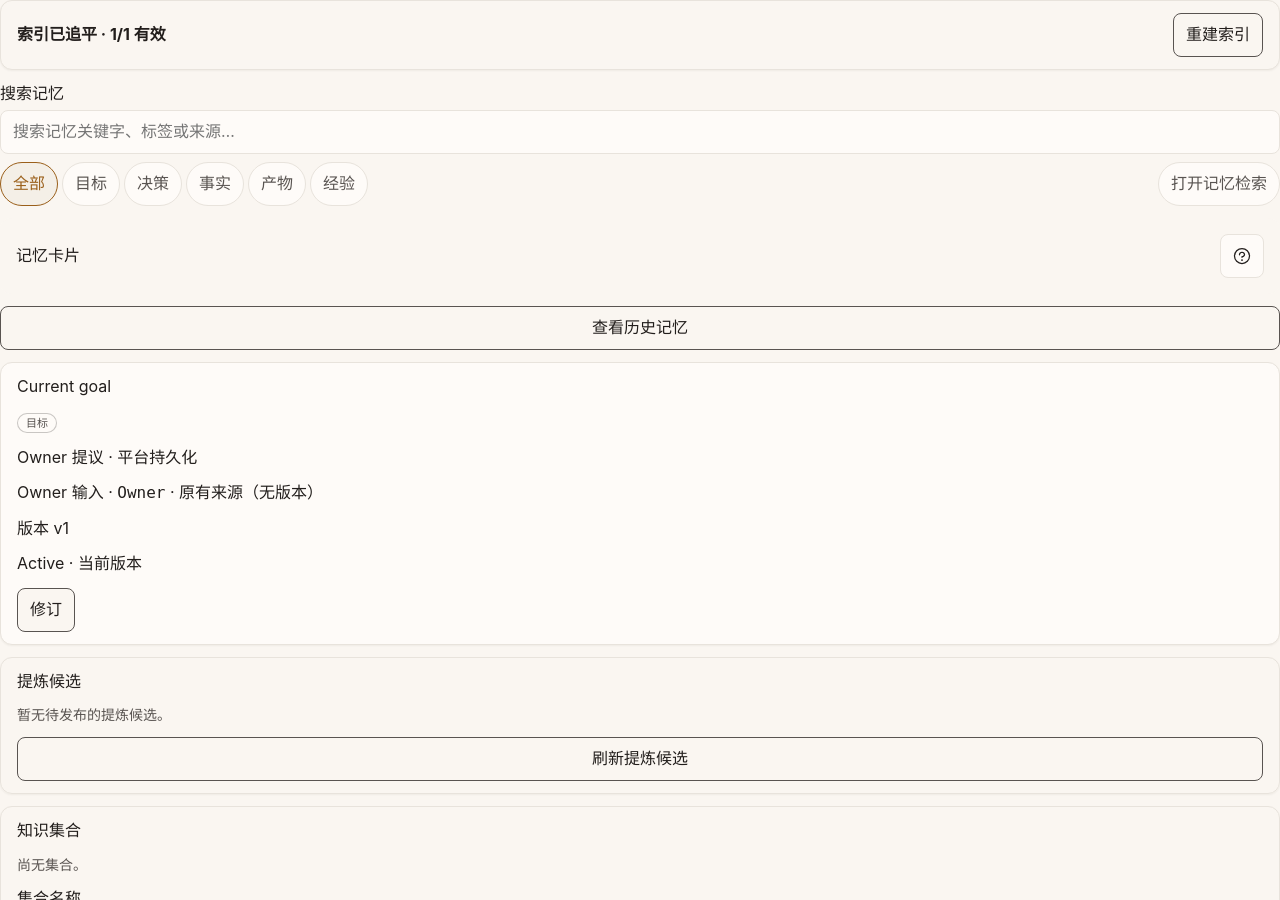
Shared Memory panel › opens the card revise action prefilled and posts a supersede revision
Expected: the heading "Current goal" is shown, [17,376,111,396]
Click the button with aria-label "修订记忆 Current goal" at point(46, 610), box [17,588,75,632]
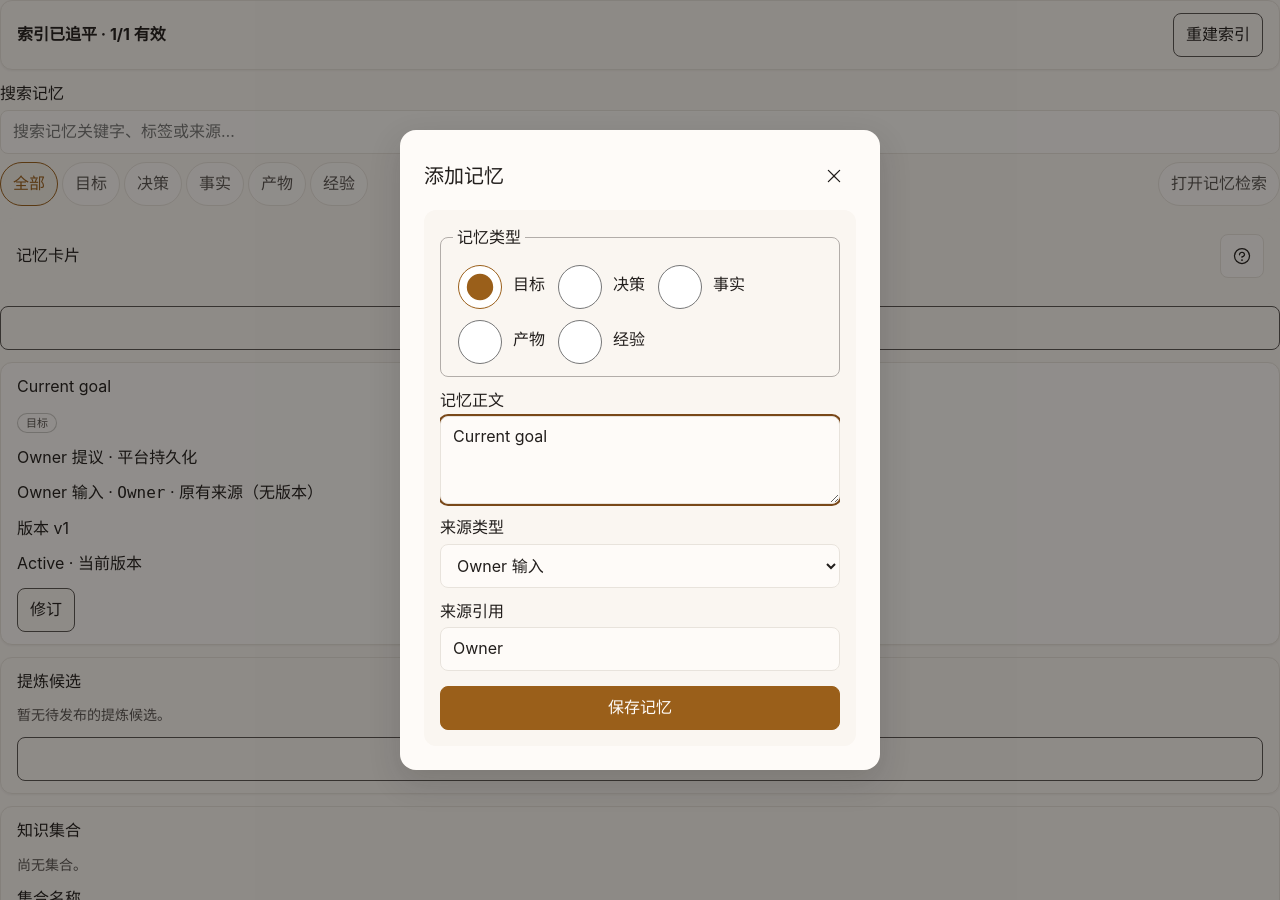
Now the text box labelled "记忆正文" holds "Current goal", box [440,416,840,504]
Now the field labelled "来源引用" holds "Owner", box [440,627,840,671]
Click the button "保存记忆" at point(640, 708), box [440,686,840,730]
(page scrolled)
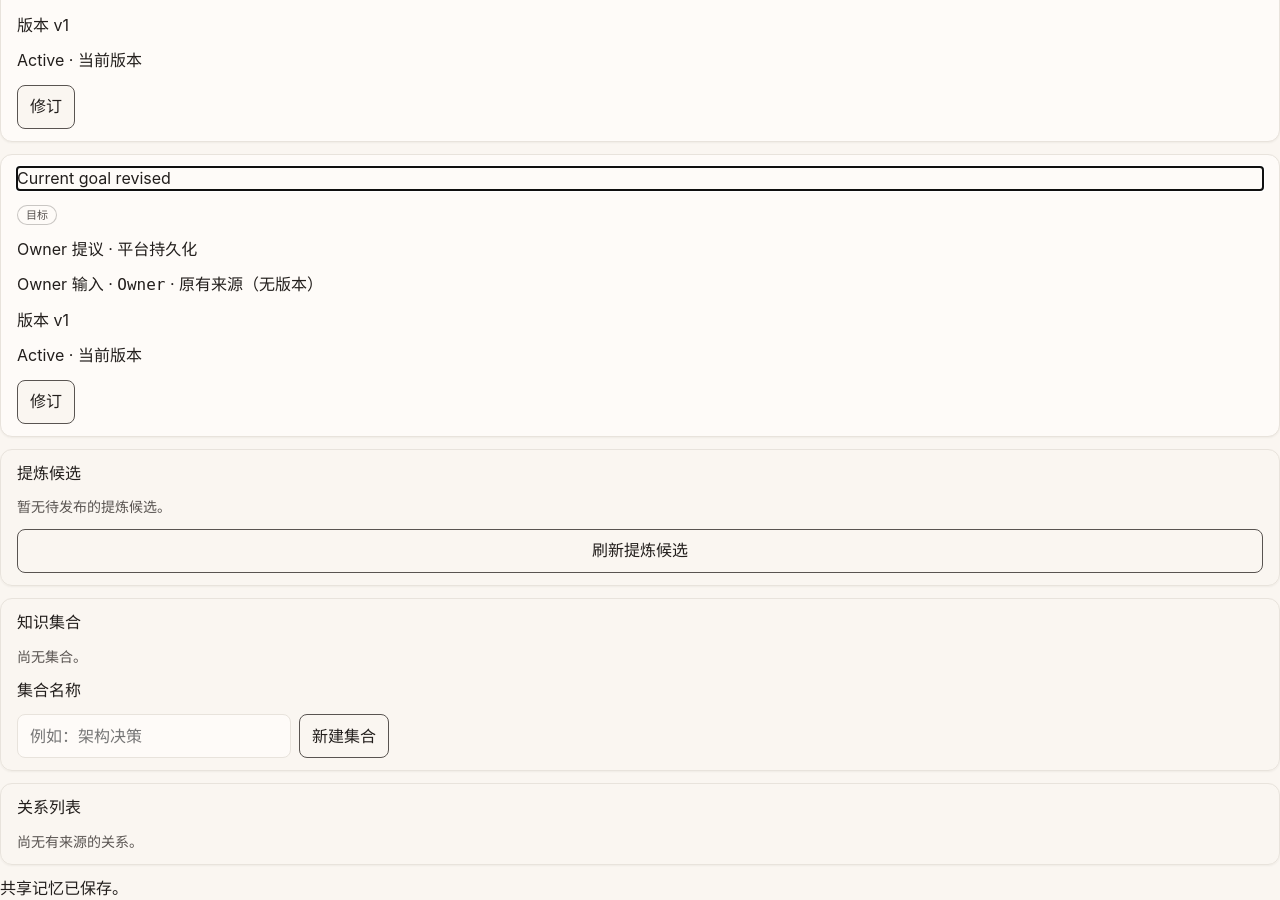
Now the message named "保存结果" reads "共享记忆已保存。", box [0,878,128,898]
